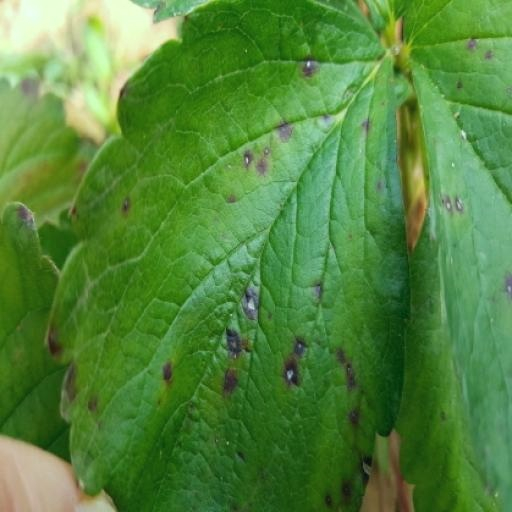Leaf Spot: (48, 0, 411, 511), (400, 0, 511, 511), (396, 207, 496, 511)
